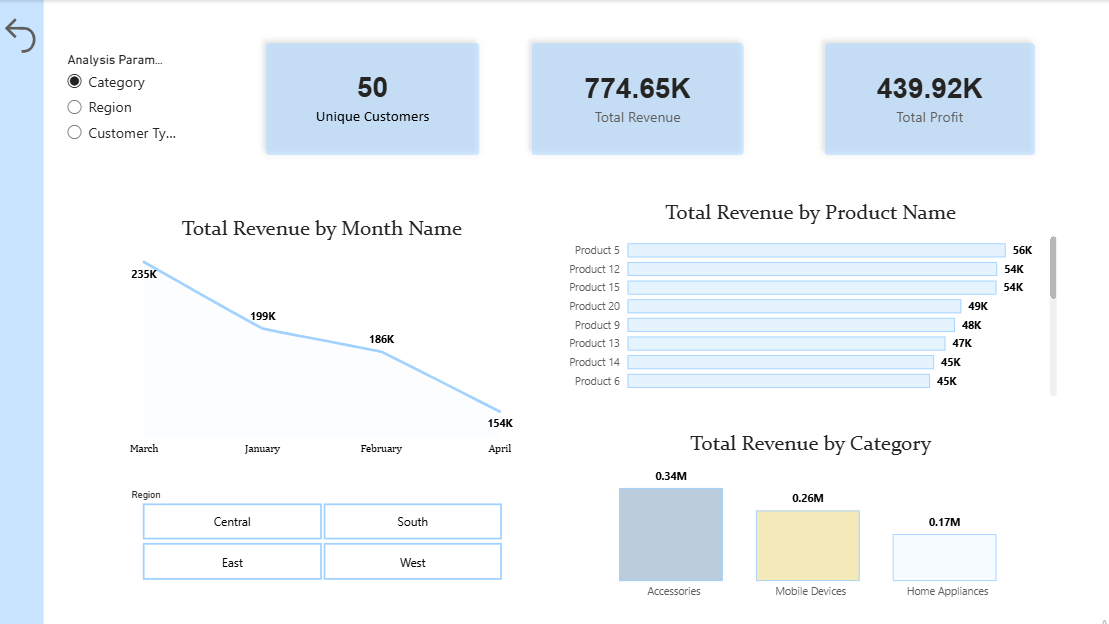

The dashboard page shown, as its layout file describes it:
{"tool":"powerbi","page":{"name":"Dashboard","canvas":[1280,720],"ordinal":0},"visuals":[{"type":"cardVisual","fields":{"Data":["sales_data_final.Unique Customers"]},"box":[276.1,0,303,226.9],"z":2},{"type":"shape","box":[0,0,52.1,719.6],"z":8},{"type":"cardVisual","fields":{"Data":["sales_data_final.Total Revenue"]},"box":[579.1,0,300,226.9],"z":10},{"type":"cardVisual","fields":{"Data":["sales_data_final.Total Profit"]},"box":[912.6,0,299,226.7],"z":11},{"type":"clusteredBarChart","fields":{"Category":["products.Product Name"],"Y":["sales_data_final.Total Revenue"]},"box":[640,226.6,571.1,229.7],"z":12},{"type":"columnChart","fields":{"Y":["sales_data_final.Total Revenue"],"Category":["products.Category"]},"box":[640,490,571.1,202.1],"z":13},{"type":"lineChart","fields":{"Y":["sales_data_final.Total Revenue"],"Category":["sales_data_final.Month Name"]},"box":[107.2,245,523.6,281.7],"z":14},{"type":"slicer","fields":{"Values":["sales_data_final.Region"]},"box":[139.3,552.7,459.3,114.8],"z":15},{"type":"actionButton","box":[0,14.4,52.7,51.1],"z":16},{"type":"slicer","fields":{"Values":["Analysis Parameter.Analysis Parameter"]},"box":[66.4,54.7,144.6,115.3],"z":17}]}

Visuals, with their boxes in screenshot pixels (x1, y1, x2, y2), scaled from the page's 1280x720 canvas onto the 1109x624 screenshot:
cardVisual - sales_data_final.Unique Customers: 239, 0, 502, 197
shape: 0, 0, 45, 623
cardVisual - sales_data_final.Total Revenue: 502, 0, 762, 197
cardVisual - sales_data_final.Total Profit: 791, 0, 1050, 196
clusteredBarChart - products.Product Name x sales_data_final.Total Revenue: 554, 196, 1049, 395
columnChart - sales_data_final.Total Revenue x products.Category: 554, 425, 1049, 600
lineChart - sales_data_final.Total Revenue x sales_data_final.Month Name: 93, 212, 547, 456
slicer - sales_data_final.Region: 121, 479, 519, 578
actionButton: 0, 12, 46, 57
slicer - Analysis Parameter.Analysis Parameter: 58, 47, 183, 147
